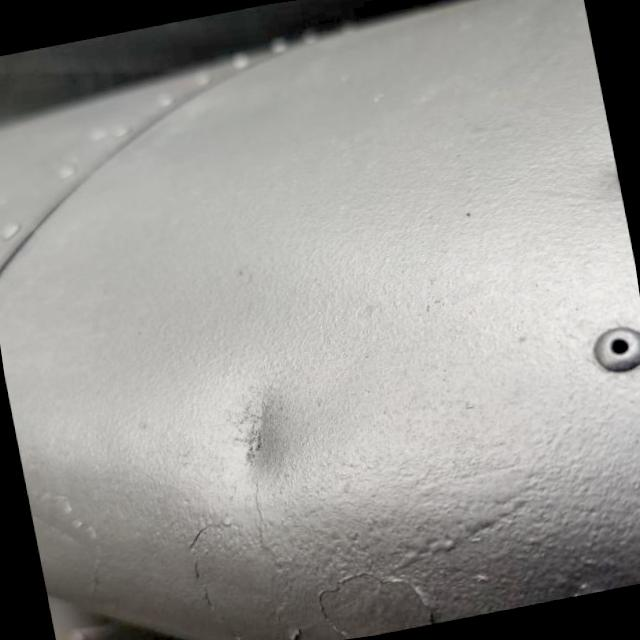dent: (210, 372, 320, 499)
